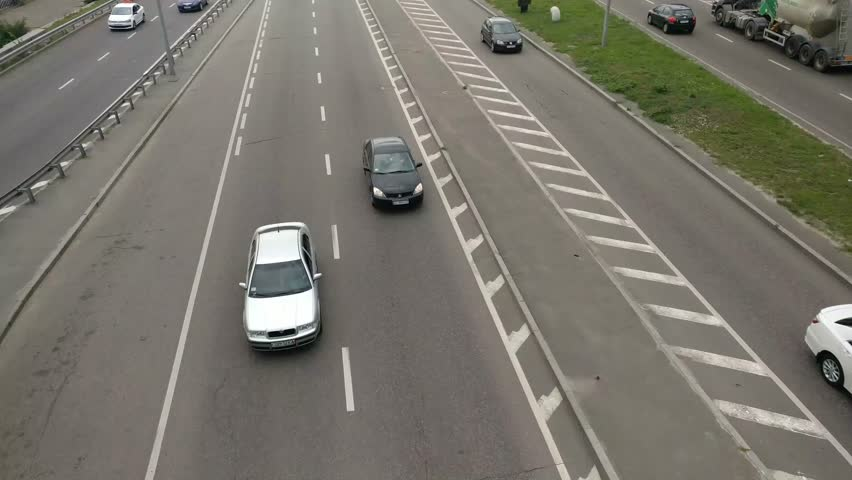car: (241, 219, 321, 353), (359, 132, 426, 211), (480, 16, 524, 55), (107, 3, 147, 31)
